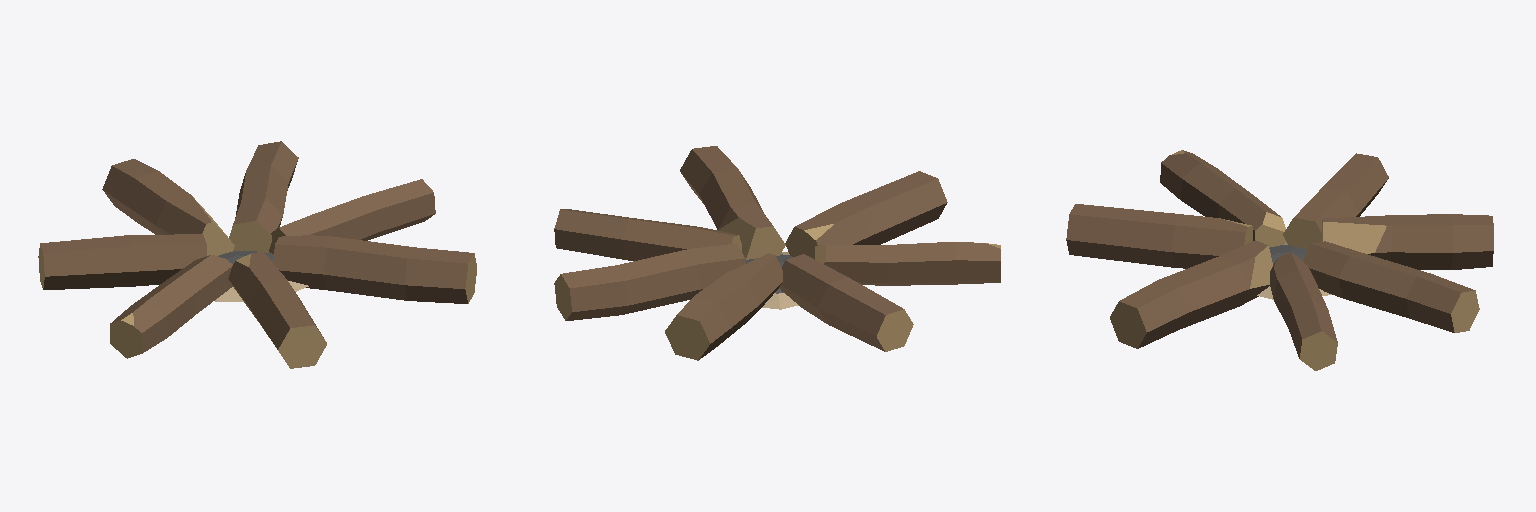
Rendered from Hilly_Prop_Camp_Campfire.obj.
3 views of the same model, side by side, from view 1: azimuth 30°, elevation 25°; view 2: azimuth 150°, elevation 25°; view 3: azimuth 270°, elevation 25° (orthographic).
Parts seen in each view (by area): view 1: object3, object2, object7, object6, object5, object4, object1, object8; view 2: object1, object5, object7, object2, object6, object4, object3, object8; view 3: object3, object5, object1, object6, object7, object4, object2, object8.
Boxes of the visible parts, box(x1,y1,x2,y2) form: object3: box(273, 235, 476, 303); object2: box(38, 234, 206, 289); object7: box(110, 255, 232, 358); object6: box(102, 159, 234, 255); object5: box(228, 252, 326, 368); object4: box(269, 179, 435, 253); object1: box(229, 141, 298, 252); object8: box(215, 251, 308, 301); object1: box(554, 243, 745, 320); object5: box(785, 171, 947, 259); object7: box(815, 242, 1000, 285); object2: box(779, 254, 913, 351); object6: box(665, 253, 782, 360); object4: box(554, 209, 741, 260); object3: box(680, 146, 785, 259); object8: box(746, 252, 798, 309); object3: box(1110, 240, 1272, 348); object5: box(1066, 204, 1252, 268); object1: box(1303, 241, 1479, 332); object6: box(1321, 214, 1493, 269); object7: box(1160, 150, 1285, 247); object4: box(1270, 253, 1337, 370); object2: box(1283, 153, 1388, 248); object8: box(1257, 242, 1331, 299).
Bounding box in the file's own units: 1.43 × 0.1839 × 1.4.